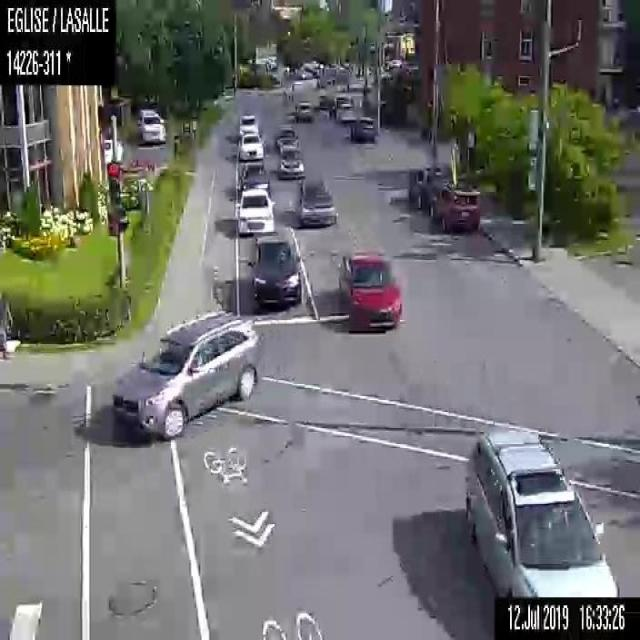pedestrian: (0, 288, 13, 357)
vehicle: (462, 426, 617, 594), (108, 308, 260, 439), (336, 249, 403, 331), (246, 231, 301, 303), (429, 185, 480, 229), (294, 176, 336, 225), (235, 187, 276, 236), (408, 164, 446, 206), (237, 160, 270, 192), (136, 106, 165, 142), (275, 144, 304, 178), (236, 132, 266, 158), (349, 118, 375, 142), (237, 112, 259, 133), (336, 103, 356, 123), (293, 100, 311, 122)
